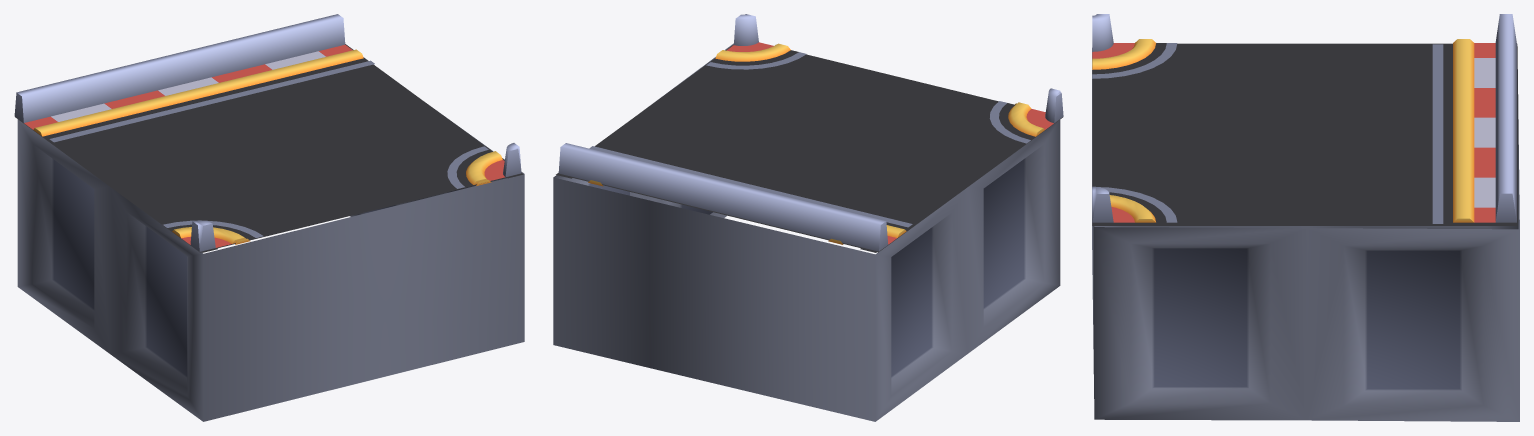
Rendered from elev-track-3-way.glb.
3 renders of one model, left to right at view 1: azimuth 30°, elevation 25°; view 2: azimuth 150°, elevation 25°; view 3: azimuth 270°, elevation 25°, orthographic. The views are drawn at different scales.
Parts seen in each view (by area): view 1: track-finish.002; view 2: track-finish.002; view 3: track-finish.002.
Boxes of the visible parts, box(x1,y1,x2,y2) form: track-finish.002: box(14, 14, 524, 421); track-finish.002: box(553, 14, 1063, 421); track-finish.002: box(1092, 14, 1519, 421).
Size of the model in its own units: 10.13 by 5.87 by 10.06.
4 materials, 4 textured.
